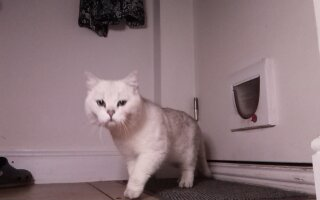bad: (84, 70, 217, 198)
